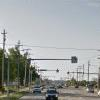Traffic light: (68, 52, 76, 67)
